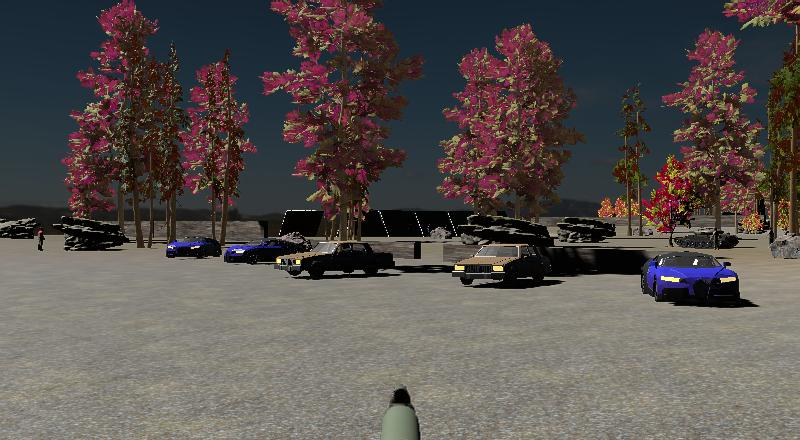Human: (34, 225, 47, 253)
Tank: (668, 225, 739, 249)
car: (643, 249, 741, 305), (275, 240, 396, 278), (449, 242, 548, 288), (224, 236, 302, 265), (223, 237, 301, 264), (164, 234, 222, 260)
